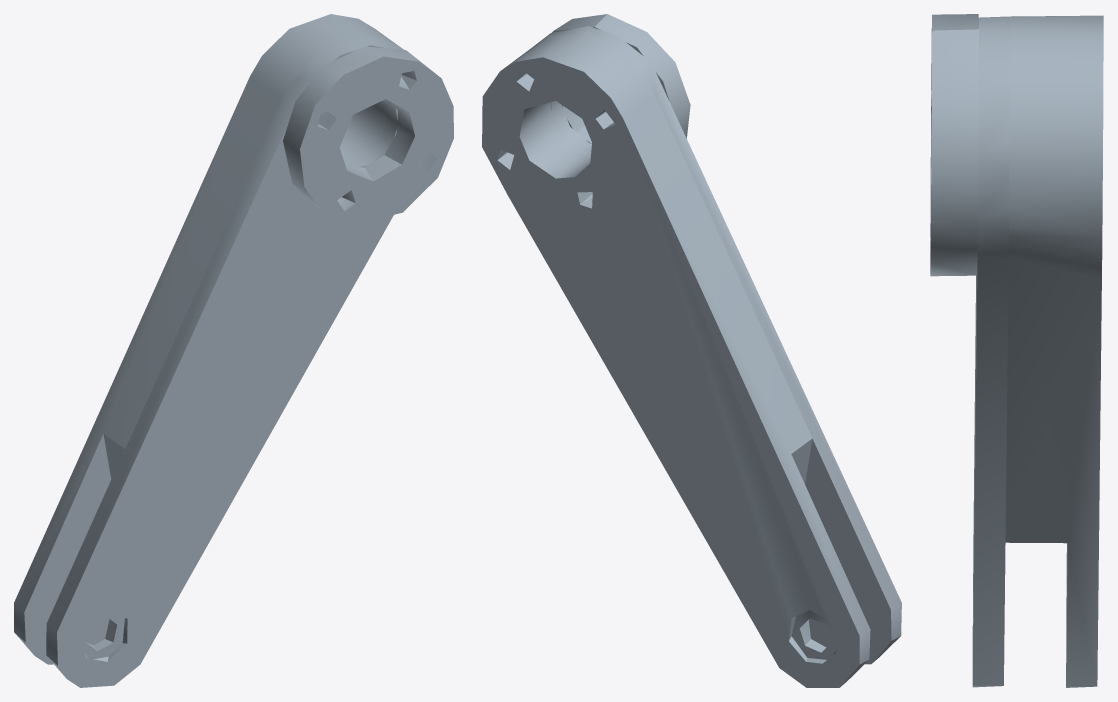
The picture shows the model from 3 angles, left to right: view 1: azimuth 30°, elevation 25°; view 2: azimuth 150°, elevation 25°; view 3: azimuth 270°, elevation 25°; orthographic projection. The views are drawn at different scales.
Parts seen in each view (by area): view 1: tmp_export_bl_link1; view 2: tmp_export_bl_link1; view 3: tmp_export_bl_link1.
Part boxes in pixels (bbox=[...]): tmp_export_bl_link1: bbox=[14, 14, 453, 687]; tmp_export_bl_link1: bbox=[482, 14, 901, 687]; tmp_export_bl_link1: bbox=[930, 14, 1103, 687].
Size of the model in its own units: 0.062 by 0.0167 by 0.0891.
